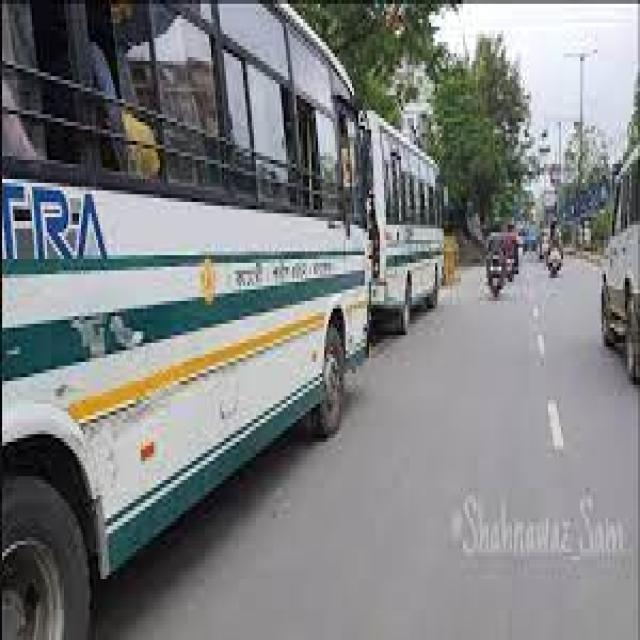Bike: (472, 250, 506, 336), (540, 219, 569, 281), (507, 225, 522, 305)
Bus: (0, 7, 357, 619), (357, 140, 455, 326)
Car: (598, 139, 640, 391)
